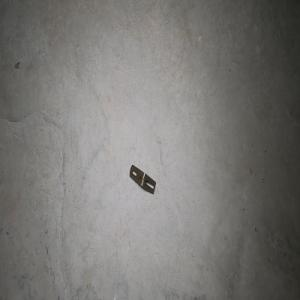MetalPart: (129, 163, 156, 195)
